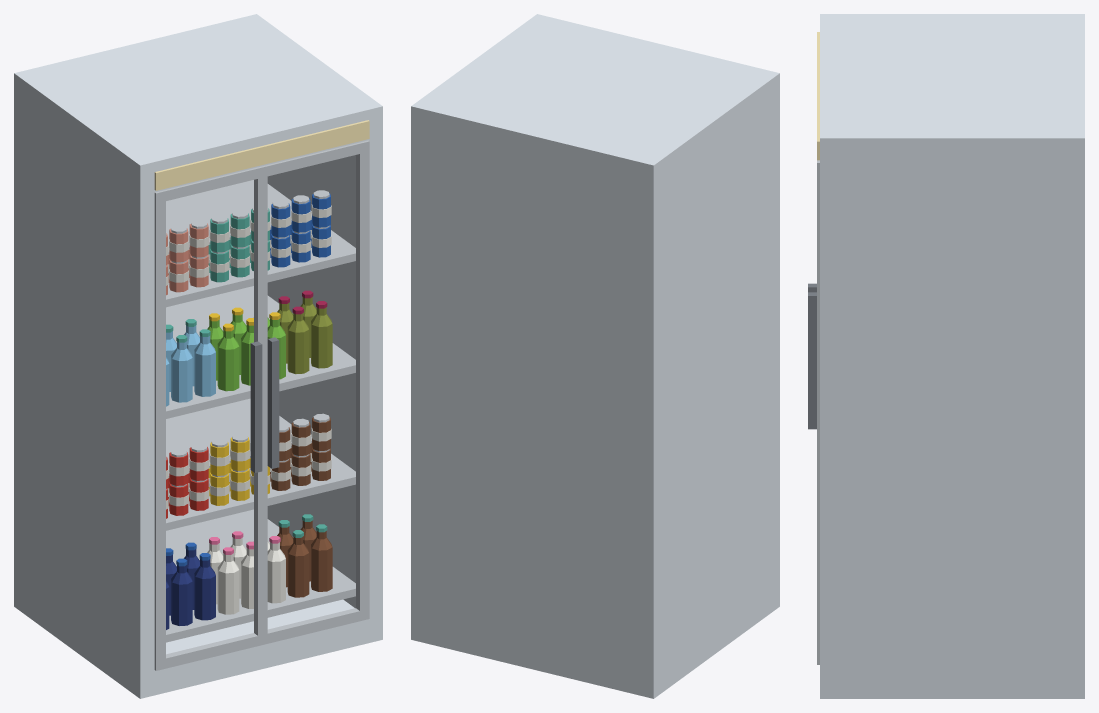
Rendered from fridge_drinks.glb.
3 views of the same model, side by side, from view 1: azimuth 30°, elevation 25°; view 2: azimuth 150°, elevation 25°; view 3: azimuth 270°, elevation 25° (orthographic). The views are drawn at different scales.
Visible parts, largest first — view 1: fridge_drinks; view 2: fridge_drinks; view 3: fridge_drinks.
Boxes of the visible parts, bbox=[...] form: fridge_drinks: bbox=[14, 14, 382, 698]; fridge_drinks: bbox=[411, 14, 779, 698]; fridge_drinks: bbox=[808, 14, 1084, 698].
Size of the model in its own units: 1 by 2.1 by 0.94.
Materials: 1 (1 with a texture image).
